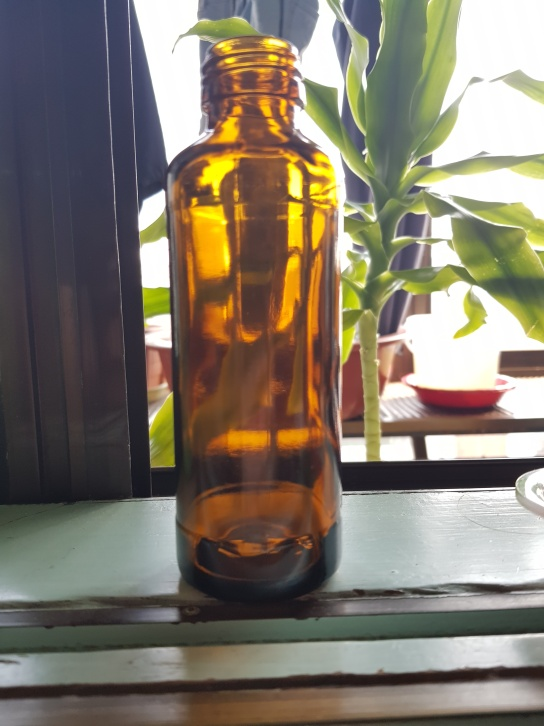Glass: (161, 32, 347, 601)
